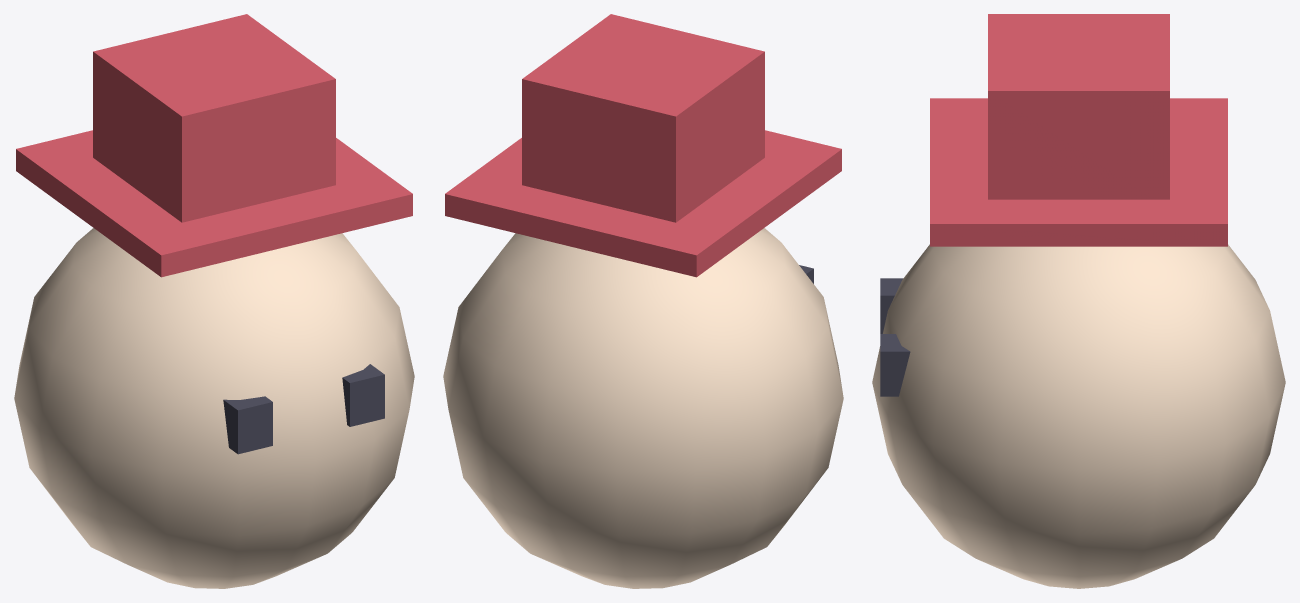
Rendered from morph-head.glb.
3 views of the same model, side by side, from view 1: azimuth 30°, elevation 25°; view 2: azimuth 150°, elevation 25°; view 3: azimuth 270°, elevation 25° (orthographic). The views are drawn at different scales.
Visible parts, largest first — view 1: head, hat; view 2: head, hat; view 3: head, hat.
Boxes of the visible parts, x1,y1,x2,y2 form: head: (14,228,414,588); hat: (16,14,412,277); head: (443,228,843,588); hat: (445,14,841,277); head: (872,244,1285,588); hat: (930,14,1227,246).
Size of the model in its own units: 1 by 1.38 by 1.
